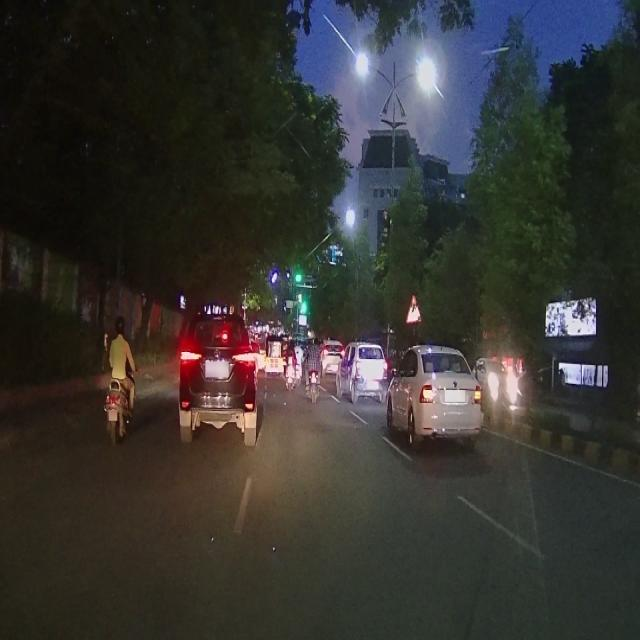car ahead at: (184, 310, 262, 440), (392, 344, 483, 449), (336, 344, 387, 405)
